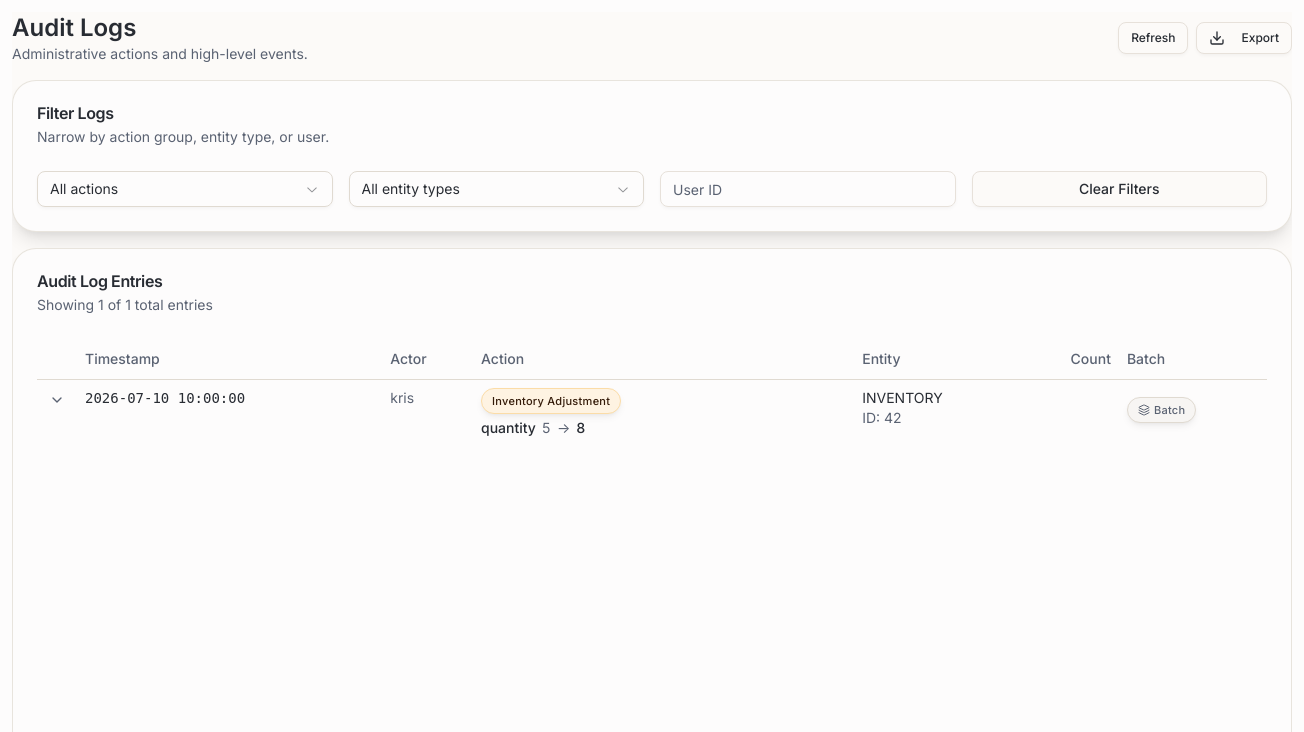
Scenario: AuditLogTab › demotes ipAddress into the expand body (not shown collapsed, shown after toggle)
Expected: the text "203.0.113.9" is not shown
// Expand the desktop row's request-details disclosure.
Step 1. Click the button named "toggle request details" → (57, 400), box x1=45 y1=388 x2=69 y2=412
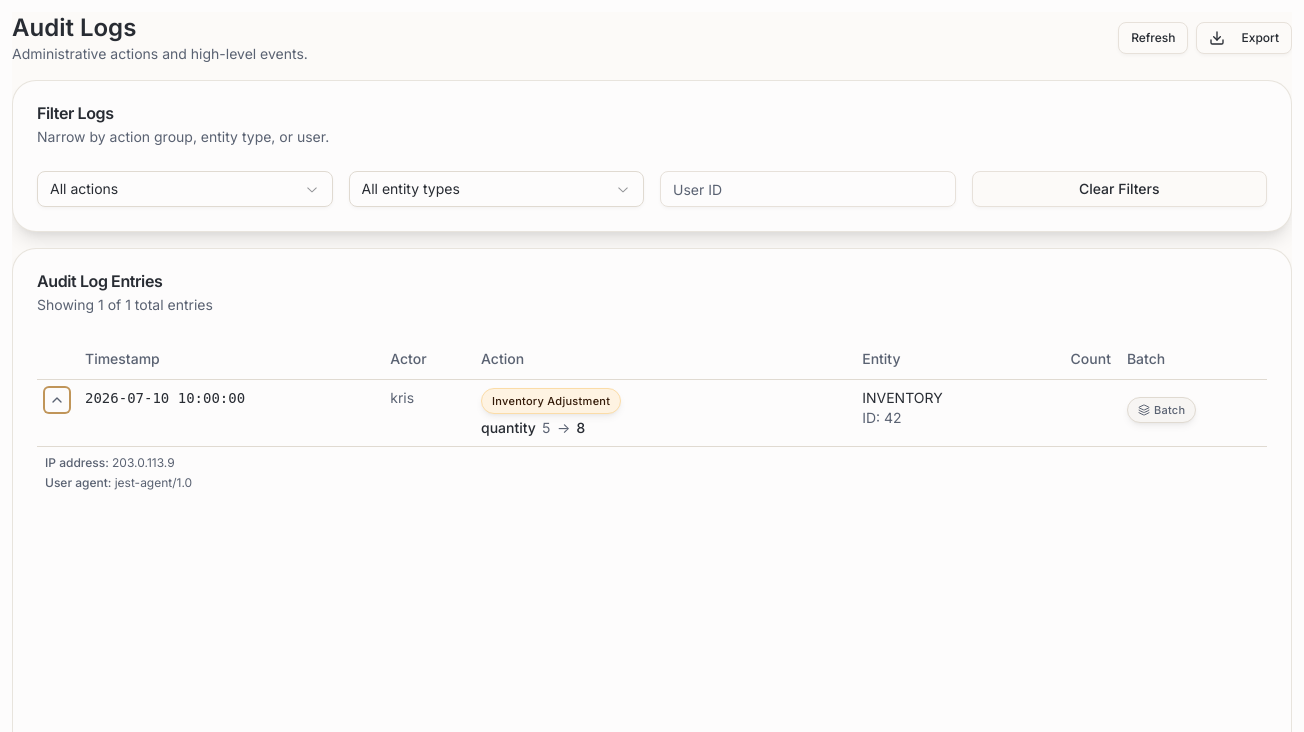
Expected: the text "203.0.113.9" is shown, x1=112 y1=454 x2=175 y2=470
